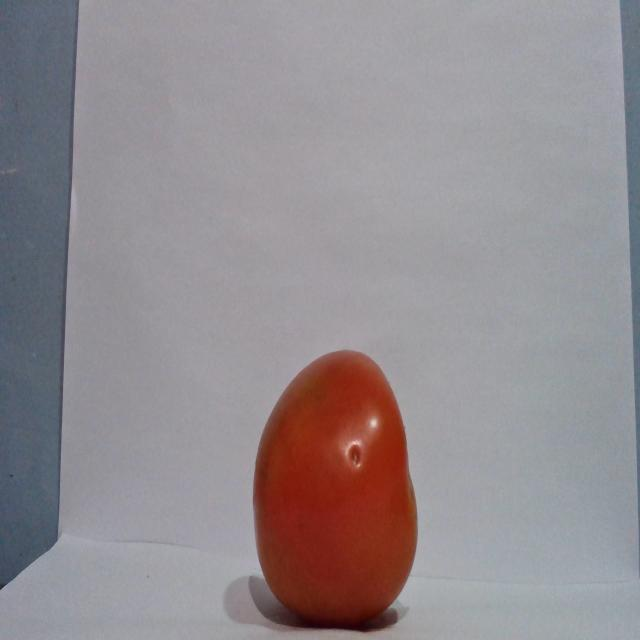Red: (251, 347, 419, 627)
